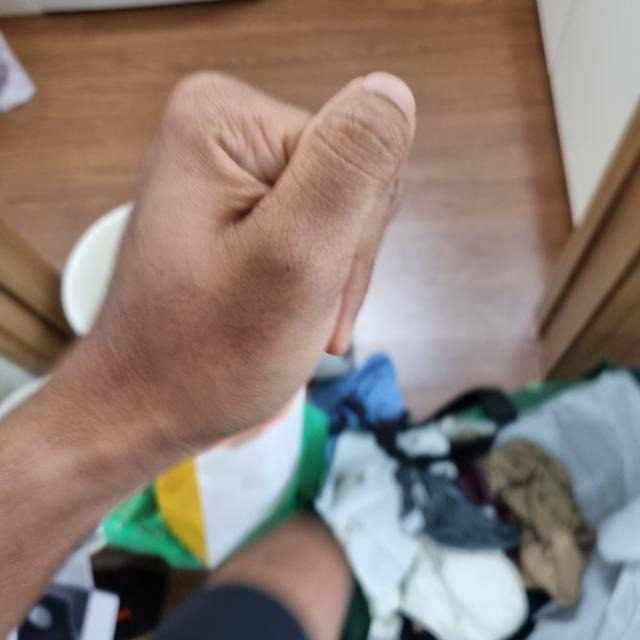Rock: (91, 78, 403, 449)
